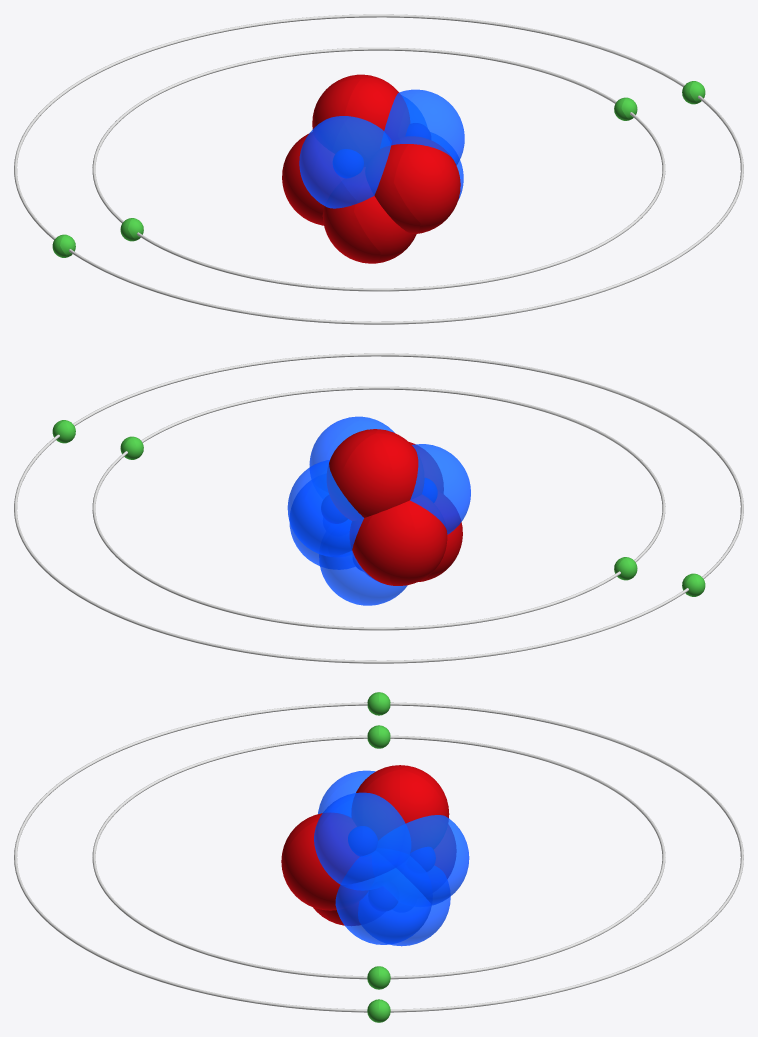
Rendered from element_004_beryllium.glb.
3 views of the same model, one above another, from view 1: azimuth 30°, elevation 25°; view 2: azimuth 150°, elevation 25°; view 3: azimuth 270°, elevation 25° (orthographic).
Visible parts, largest first — view 1: element_004_beryllium_nucleus, beryllium_orbital_1_6; view 2: element_004_beryllium_nucleus, beryllium_orbital_1_6; view 3: element_004_beryllium_nucleus, beryllium_orbital_1_6.
Boxes of the visible parts, x1,y1,x2,y2 form: element_004_beryllium_nucleus: [282, 74, 464, 263]; beryllium_orbital_1_6: [14, 14, 743, 324]; element_004_beryllium_nucleus: [287, 416, 470, 605]; beryllium_orbital_1_6: [14, 353, 743, 663]; element_004_beryllium_nucleus: [281, 765, 469, 946]; beryllium_orbital_1_6: [14, 692, 743, 1022].
Size of what is drawn, in the model's own units: 0.6293 by 0.1561 by 0.6122.
